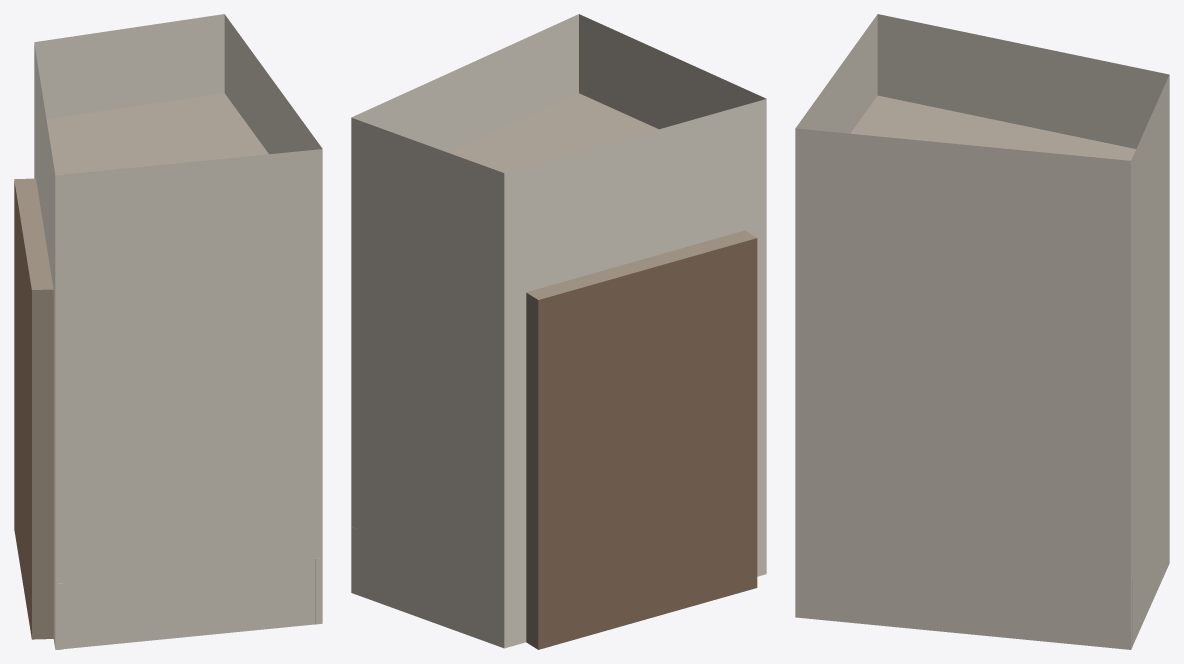
The picture shows the model from 3 angles, left to right: view 1: azimuth 30°, elevation 25°; view 2: azimuth 150°, elevation 25°; view 3: azimuth 270°, elevation 25°; orthographic projection. The views are drawn at different scales.
Parts seen in each view (by area): view 1: W-32#3; view 2: W-32#3; view 3: W-32#3.
Part boxes in pixels (x1=…): W-32#3: x1=14, y1=14, x2=322, y2=649; W-32#3: x1=351, y1=14, x2=766, y2=649; W-32#3: x1=795, y1=14, x2=1169, y2=649.
Bounding box in the file's own units: 2.37 × 3.6 × 2.5.
